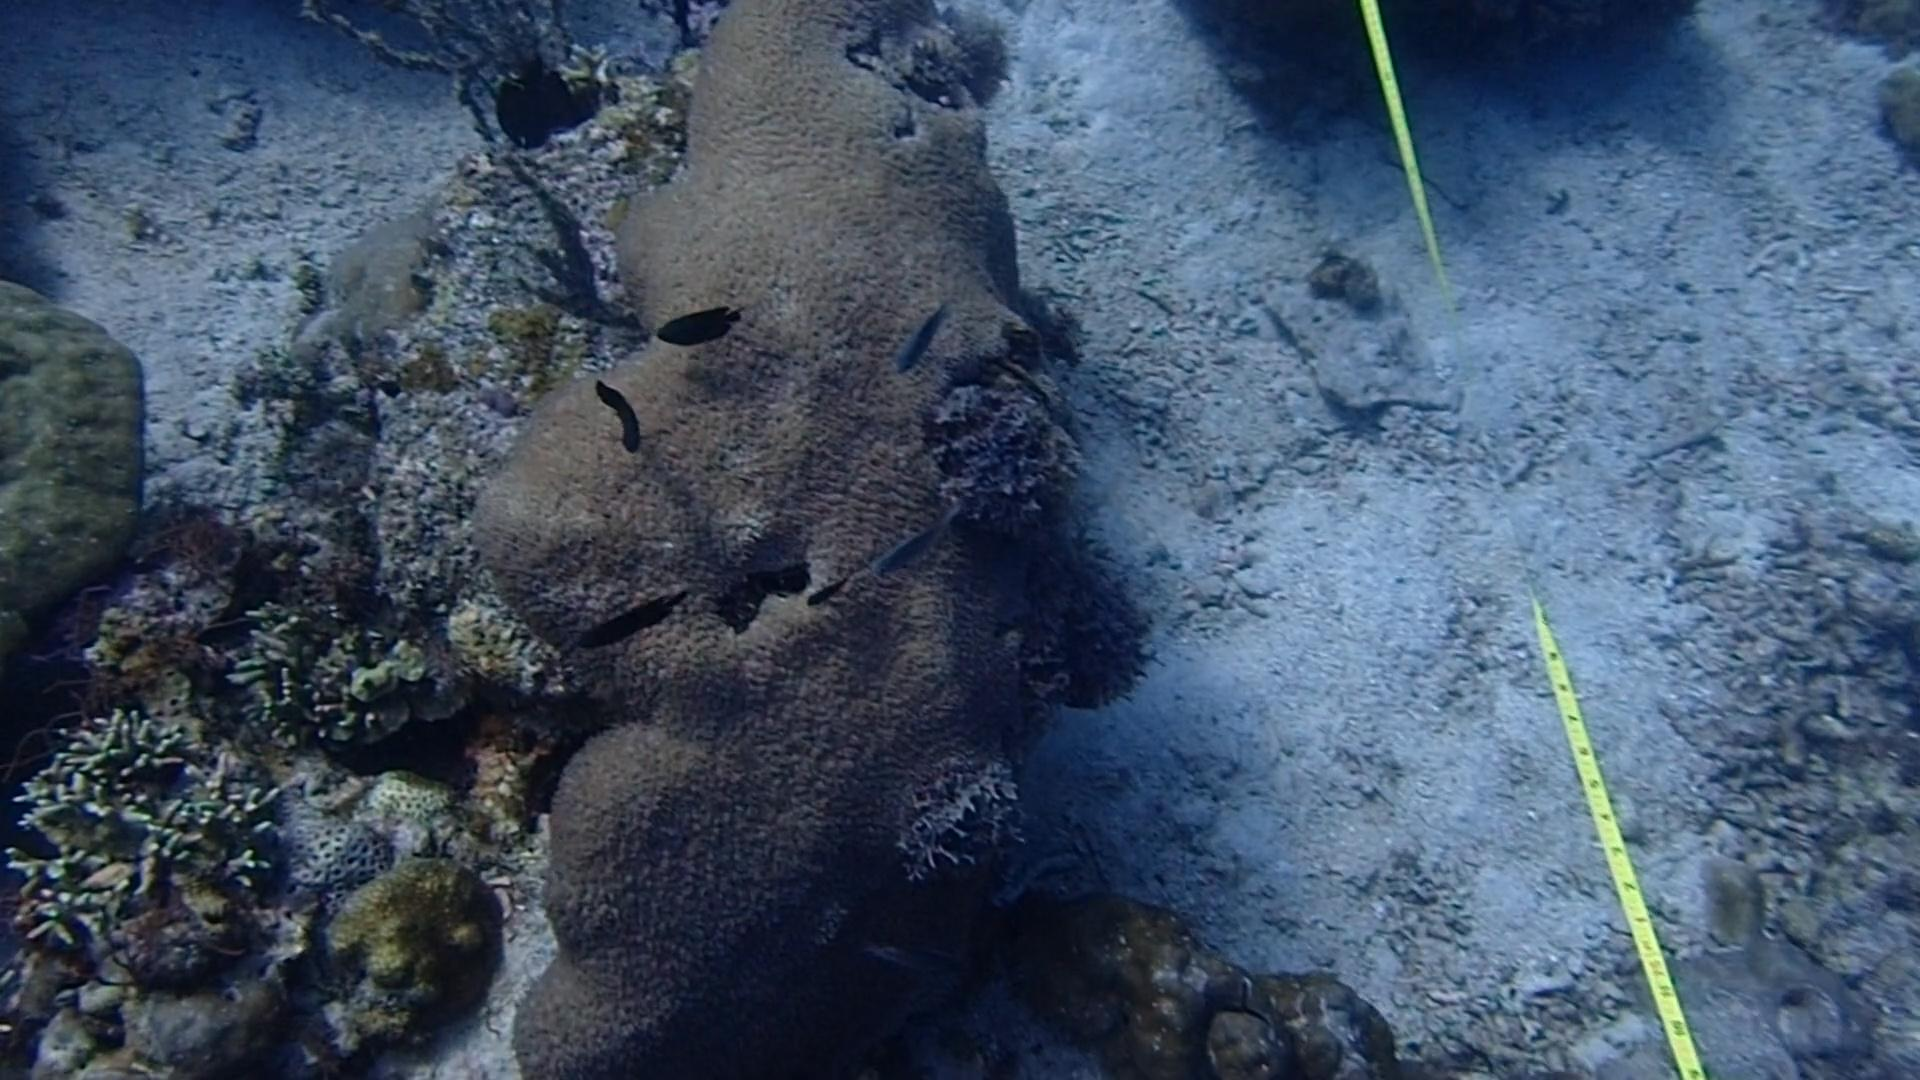Dark Fish: (575, 585, 671, 662), (641, 291, 746, 357), (585, 373, 645, 456), (807, 575, 856, 615)
Light Fish: (852, 931, 976, 997), (864, 495, 952, 587), (887, 293, 969, 381)
